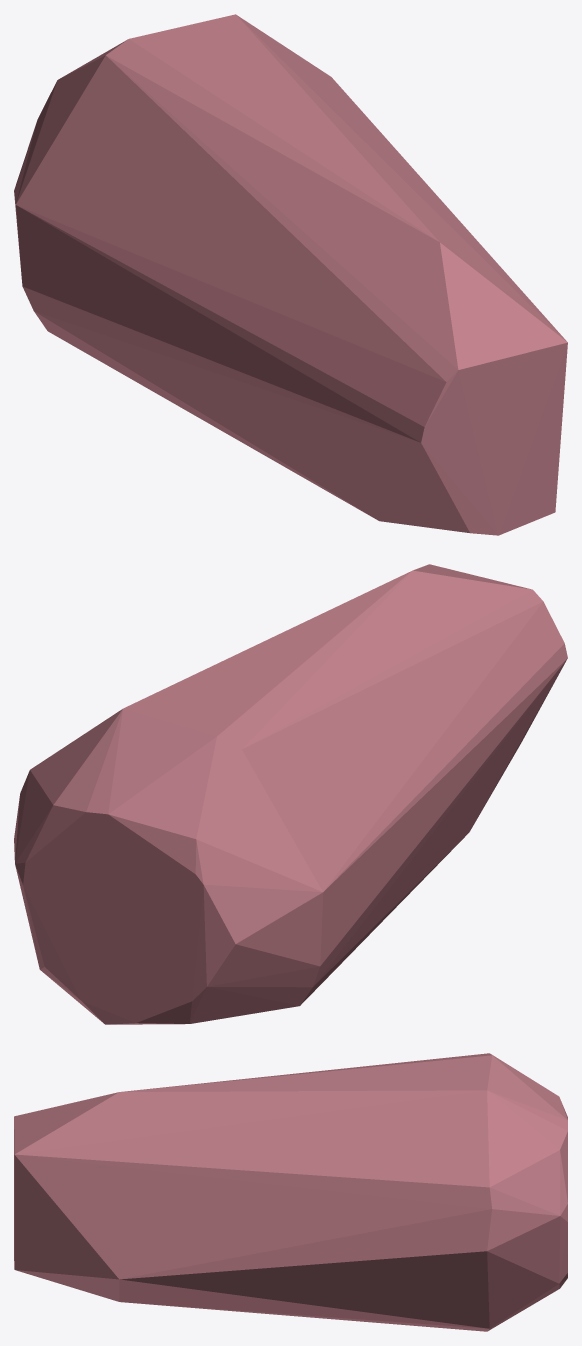
The model's file is kitchenware_shaker_c01.glb.
3 views of the same model, one above another, from view 1: azimuth 30°, elevation 25°; view 2: azimuth 150°, elevation 25°; view 3: azimuth 270°, elevation 25° (orthographic). The views are drawn at different scales.
Visible parts, largest first — view 1: geometry_0; view 2: geometry_0; view 3: geometry_0.
Boxes of the visible parts, bbox=[...] form: geometry_0: bbox=[14, 14, 567, 535]; geometry_0: bbox=[14, 564, 567, 1024]; geometry_0: bbox=[14, 1053, 567, 1331].
Size of the model in its own units: 0.239 by 0.2227 by 0.48.
